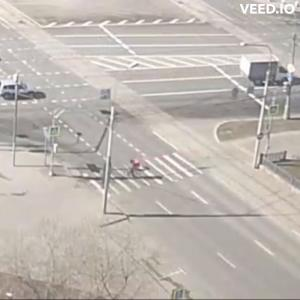car: (232, 52, 299, 88), (2, 82, 47, 102)
